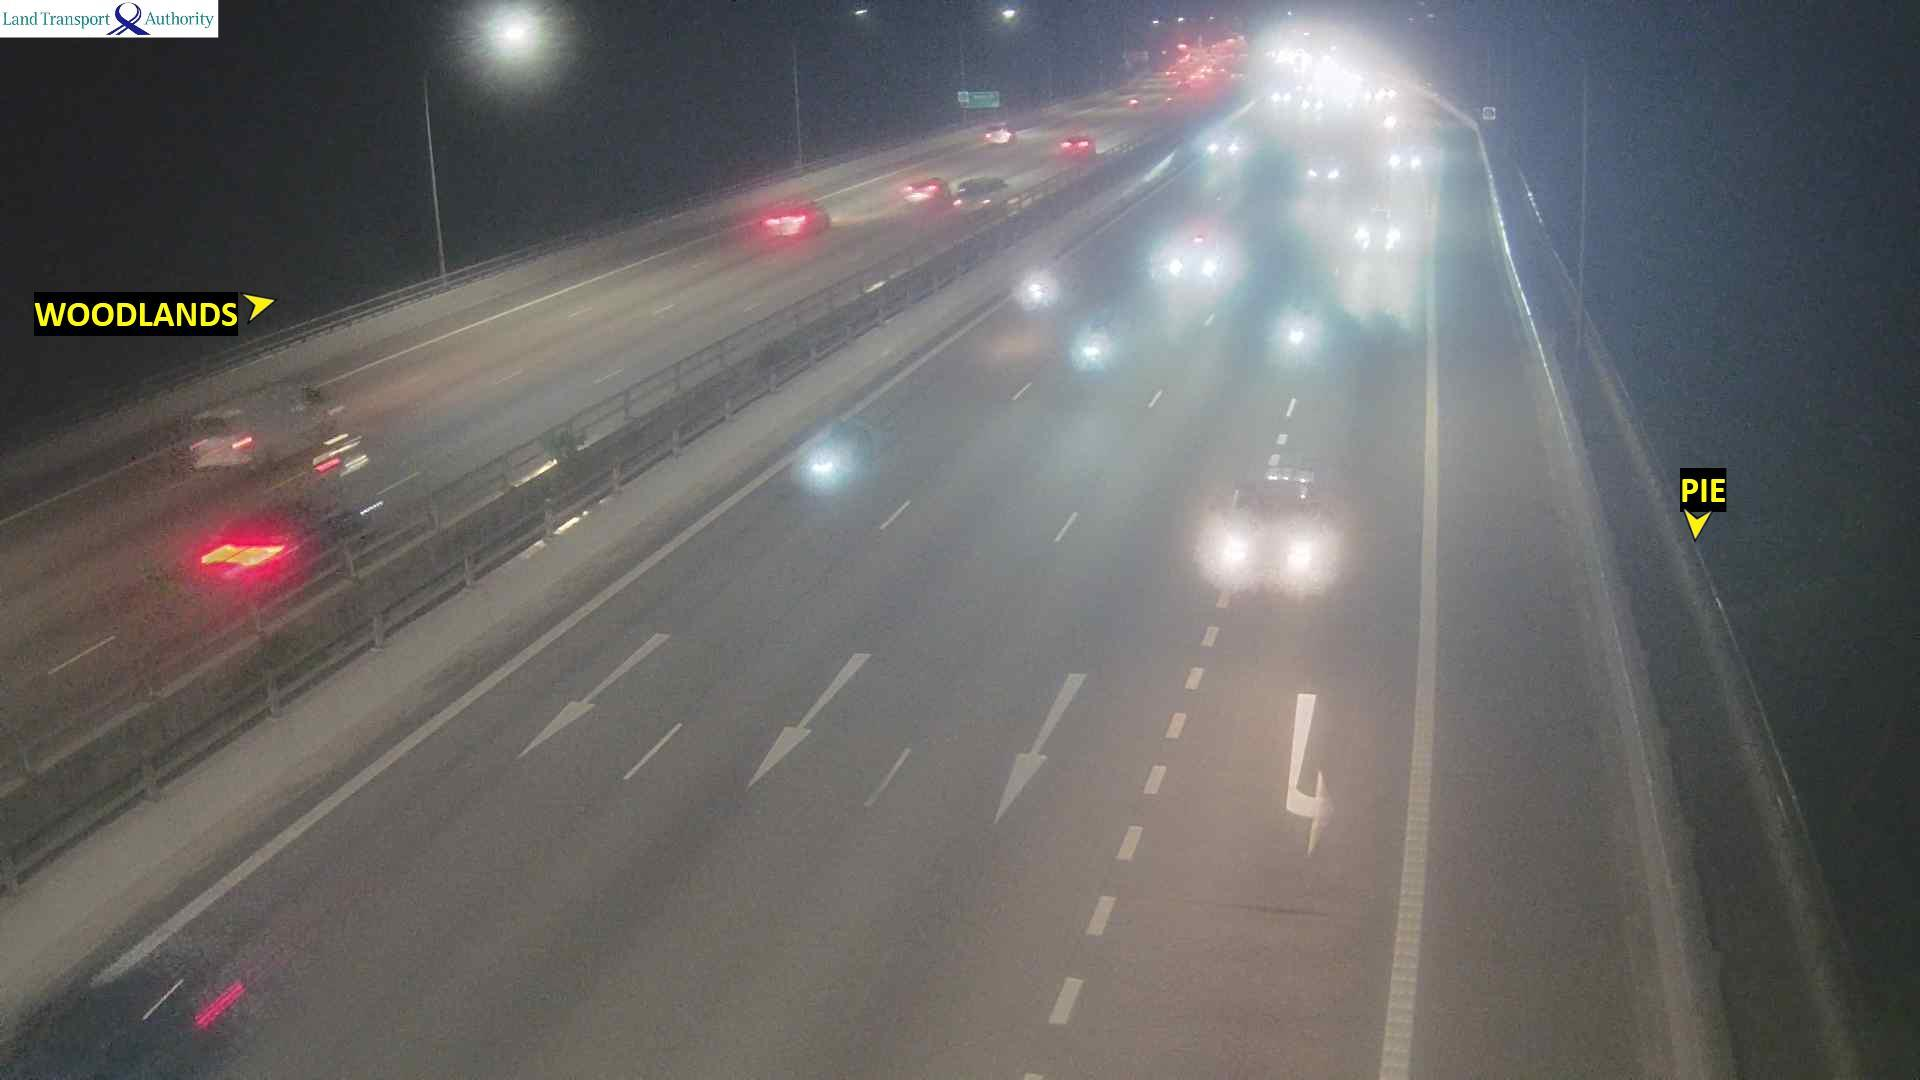incoming: (1208, 490, 1342, 615)
